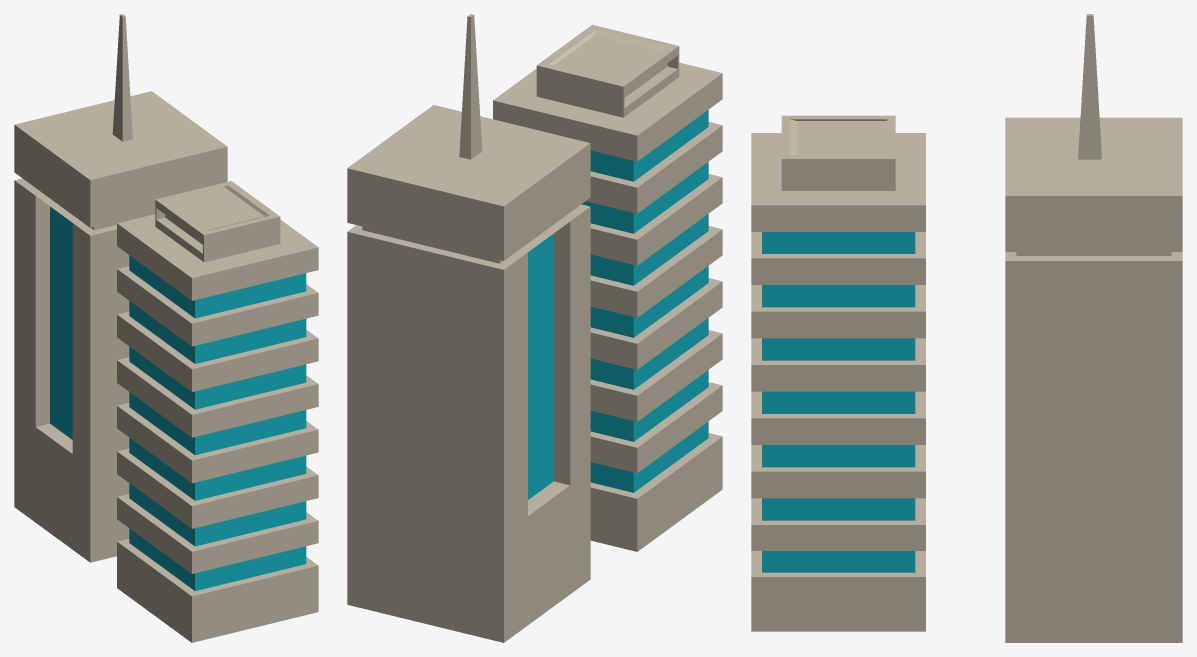
Rendered from building.fbx.
3 renders of one model, left to right at view 1: azimuth 30°, elevation 25°; view 2: azimuth 150°, elevation 25°; view 3: azimuth 270°, elevation 25°, orthographic. The views are drawn at different scales.
Visible parts, largest first — view 1: Cube.001, Cube; view 2: Cube, Cube.001; view 3: Cube, Cube.001.
Part boxes in pixels (left/top/right/bottom): Cube.001: left=117, top=181, right=318, bottom=642; Cube: left=14, top=14, right=227, bottom=562; Cube: left=347, top=14, right=590, bottom=642; Cube.001: left=493, top=24, right=722, bottom=551; Cube: left=1005, top=14, right=1182, bottom=642; Cube.001: left=751, top=115, right=925, bottom=631.
Bounding box in the file's own units: 2444 × 8147 × 5410.
Materials: 2 (2 with a texture image).
